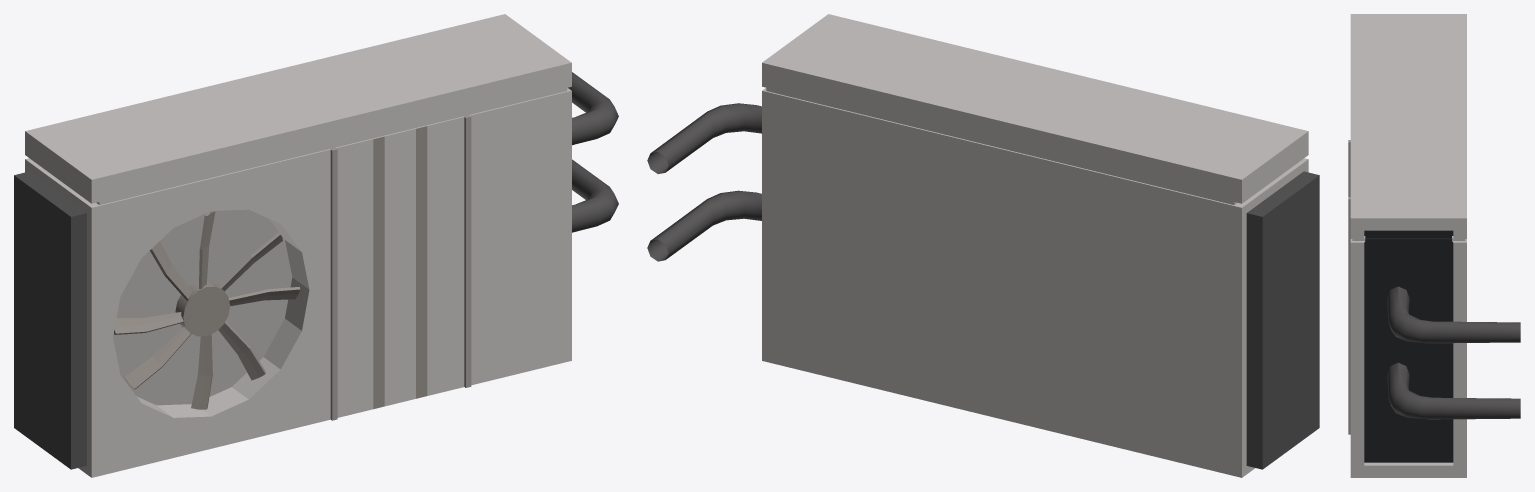
The model's file is AirConditioner_1.fbx.
3 renders of one model, left to right at view 1: azimuth 30°, elevation 25°; view 2: azimuth 150°, elevation 25°; view 3: azimuth 270°, elevation 25°, orthographic. The views are drawn at different scales.
Parts seen in each view (by area): view 1: AirConditioner_1; view 2: AirConditioner_1; view 3: AirConditioner_1.
Boxes of the visible parts, left/top/right/bottom form: AirConditioner_1: left=14, top=14, right=618, bottom=477; AirConditioner_1: left=647, top=14, right=1319, bottom=477; AirConditioner_1: left=1348, top=14, right=1520, bottom=477.
Bounding box in the file's own units: 172 × 84.71 × 50.99.
